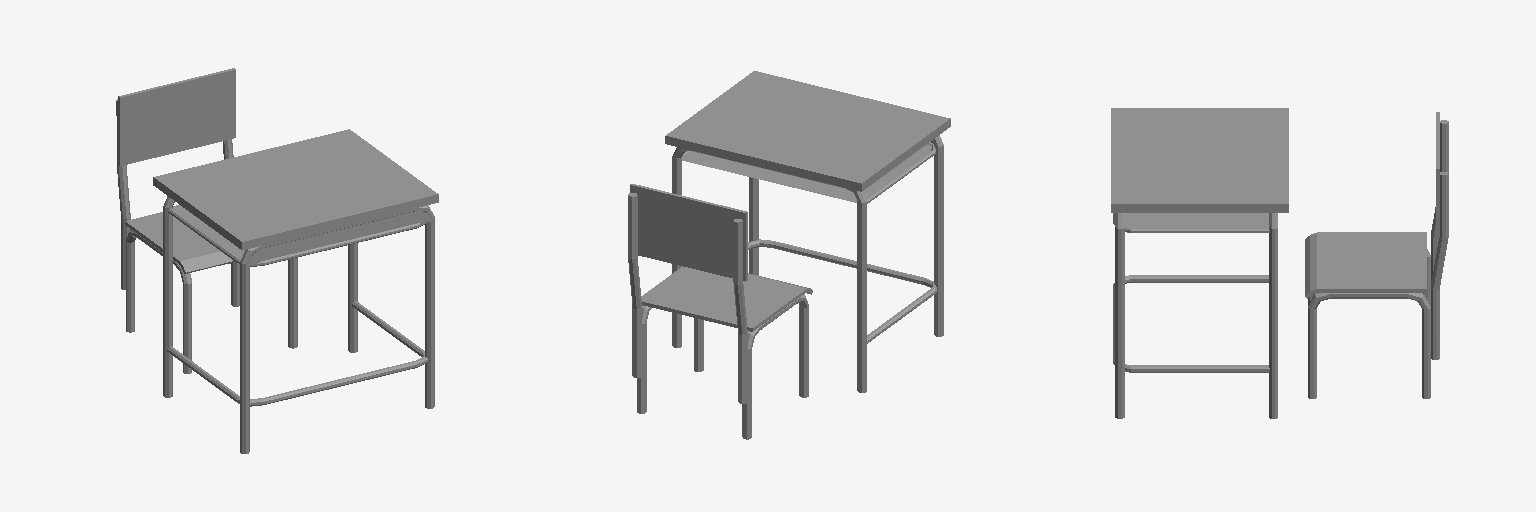
The model's file is chairSchool.obj.
3 renders of one model, left to right at view 1: azimuth 30°, elevation 25°; view 2: azimuth 150°, elevation 25°; view 3: azimuth 270°, elevation 25°, orthographic.
Visible parts, largest first — view 1: Cube.002, Cube.001; view 2: Cube.002, Cube.001; view 3: Cube.002, Cube.001.
Part boxes in pixels (x1,y1,x2,y2): Cube.002: (153,129,438,453); Cube.001: (116,68,297,373); Cube.002: (665,71,950,392); Cube.001: (628,184,812,439); Cube.002: (1111,108,1288,418); Cube.001: (1305,112,1448,398).
Size of the model in its own units: 4.17 by 4.68 by 6.22.